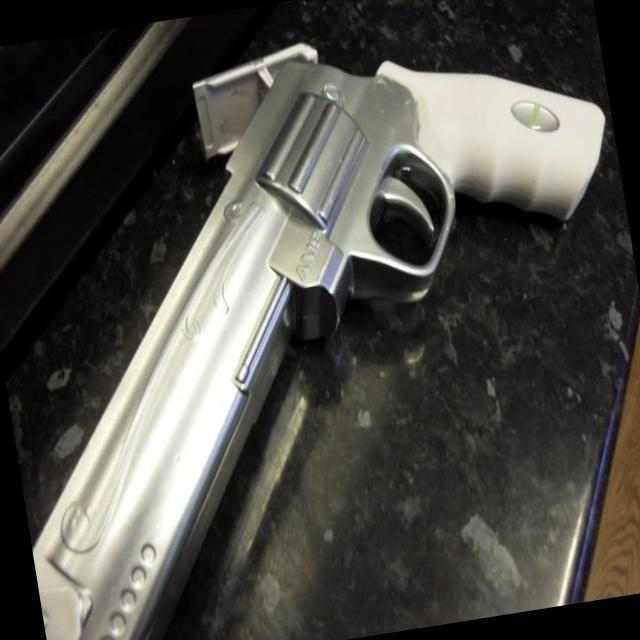Gun: (33, 62, 605, 640)
